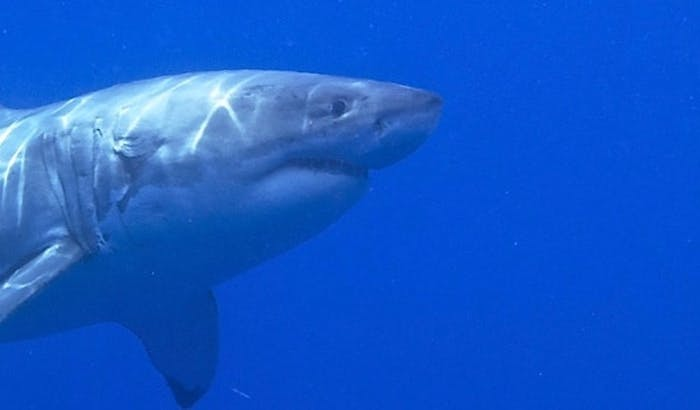shark: (1, 65, 463, 396)
